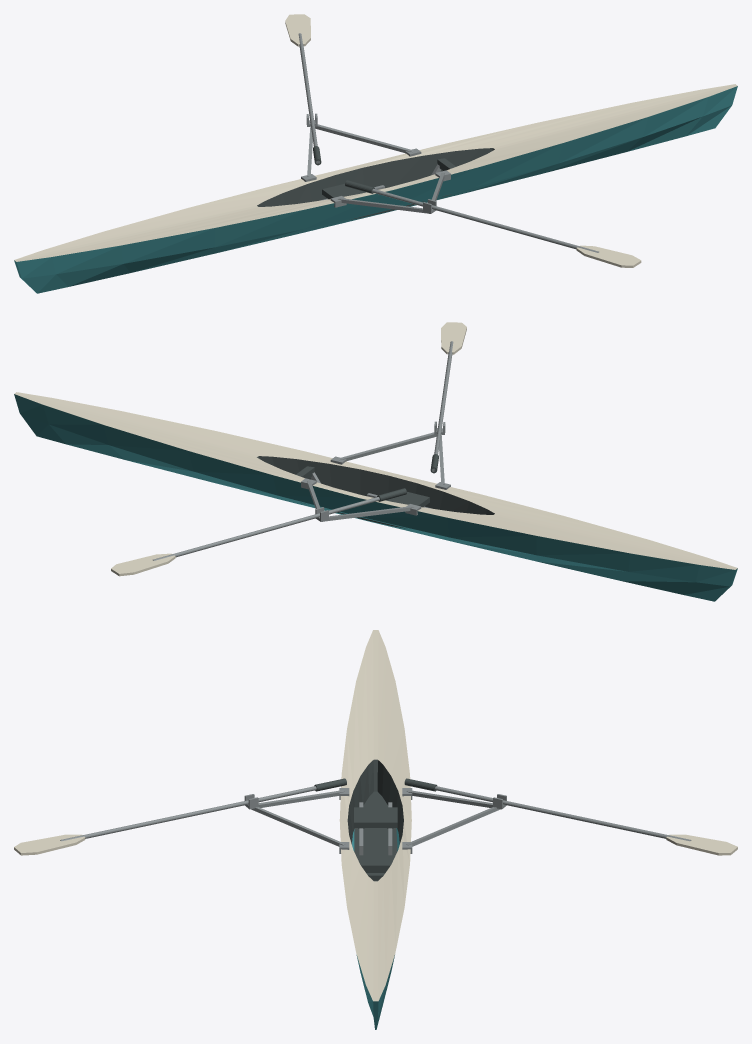
3 views of the same model, one above another, from view 1: azimuth 30°, elevation 25°; view 2: azimuth 150°, elevation 25°; view 3: azimuth 270°, elevation 25° (orthographic). The views are drawn at different scales.
Visible parts, largest first — view 1: WholeGroundFootRacingShellAndBoundedRowingWell, WholeContinuousScullShaft_0, WholeBroadScullBlade_0, WholeBroadScullBlade_1, WholeTriangularRigger_1_1, WholeContinuousScullShaft_1; view 2: WholeGroundFootRacingShellAndBoundedRowingWell, WholeContinuousScullShaft_1, WholeBroadScullBlade_1, WholeBroadScullBlade_0, WholeTriangularRigger_0_1, WholeContinuousScullShaft_0; view 3: WholeGroundFootRacingShellAndBoundedRowingWell, WholeContinuousScullShaft_0, WholeContinuousScullShaft_1, WholeLowBacklessSeat, WholeBroadScullBlade_1, WholeBroadScullBlade_0.
Part boxes in pixels (x1,y1,x2,y2): WholeGroundFootRacingShellAndBoundedRowingWell: (14, 84, 737, 293); WholeContinuousScullShaft_0: (372, 188, 598, 252); WholeBroadScullBlade_0: (576, 245, 641, 267); WholeBroadScullBlade_1: (285, 14, 310, 46); WholeTriangularRigger_1_1: (315, 124, 413, 152); WholeContinuousScullShaft_1: (298, 33, 319, 163); WholeGroundFootRacingShellAndBoundedRowingWell: (14, 392, 737, 601); WholeContinuousScullShaft_1: (153, 497, 379, 560); WholeBroadScullBlade_1: (111, 553, 175, 576); WholeBroadScullBlade_0: (441, 322, 466, 354); WholeTriangularRigger_0_1: (338, 432, 436, 460); WholeContinuousScullShaft_0: (432, 341, 453, 471); WholeGroundFootRacingShellAndBoundedRowingWell: (339, 630, 411, 1029); WholeContinuousScullShaft_0: (60, 786, 316, 841); WholeContinuousScullShaft_1: (435, 786, 691, 841); WholeLowBacklessSeat: (354, 807, 397, 827); WholeBroadScullBlade_1: (666, 834, 737, 855); WholeBroadScullBlade_0: (14, 834, 85, 855).
Size of the model in its own units: 5.8 by 0.408 by 4.78.
